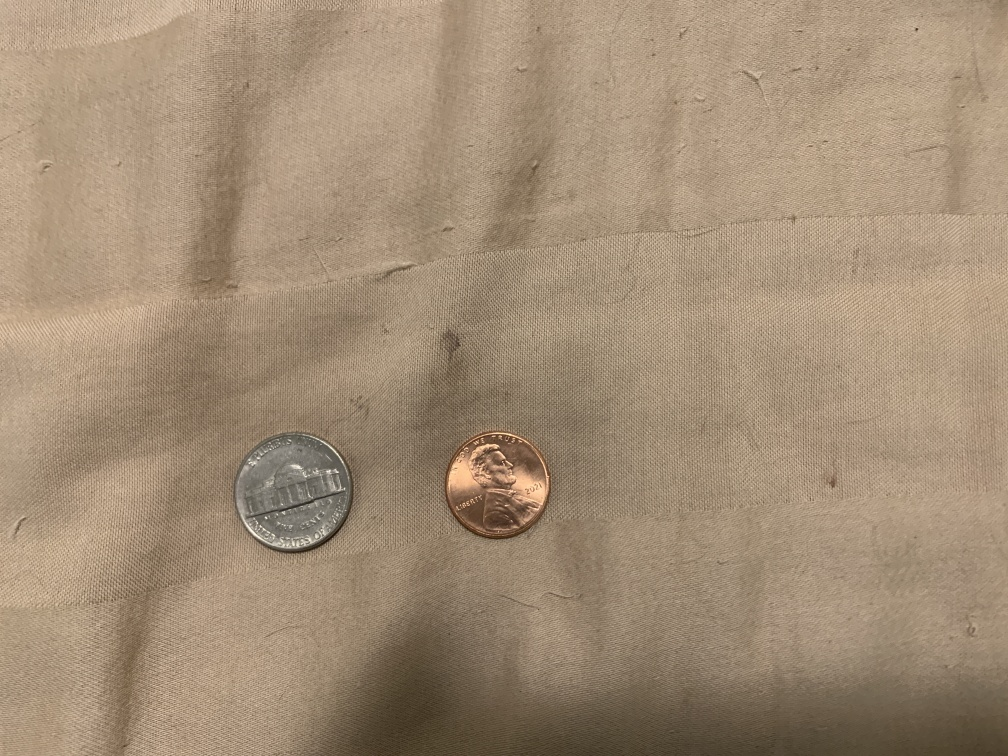nickel: (231, 427, 357, 561)
penny: (439, 426, 557, 549)
